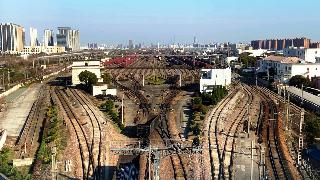train: (136, 114, 159, 136), (171, 75, 180, 84)
